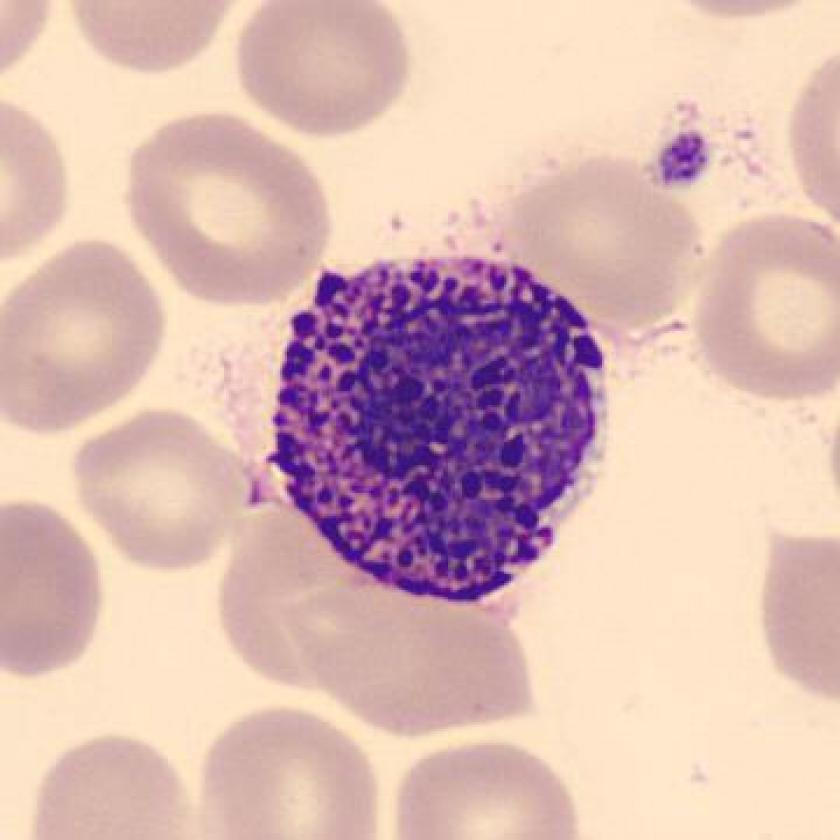basophil: (272, 253, 619, 614)
